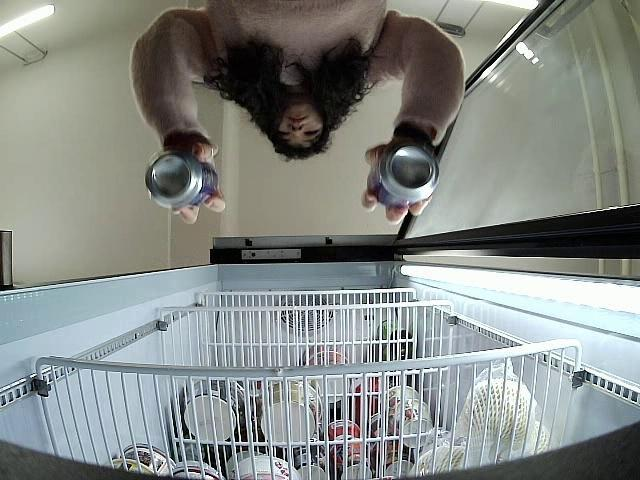14_welchsGrape: (366, 140, 440, 209), (144, 152, 220, 212)
